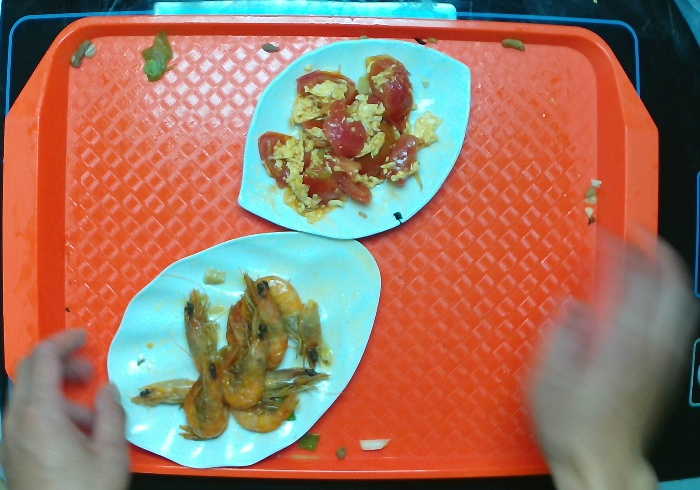RJxy-Bai_Ye_Pan: (104, 230, 386, 474)
RJxy-Da_Du_Pan: (233, 37, 475, 246)
